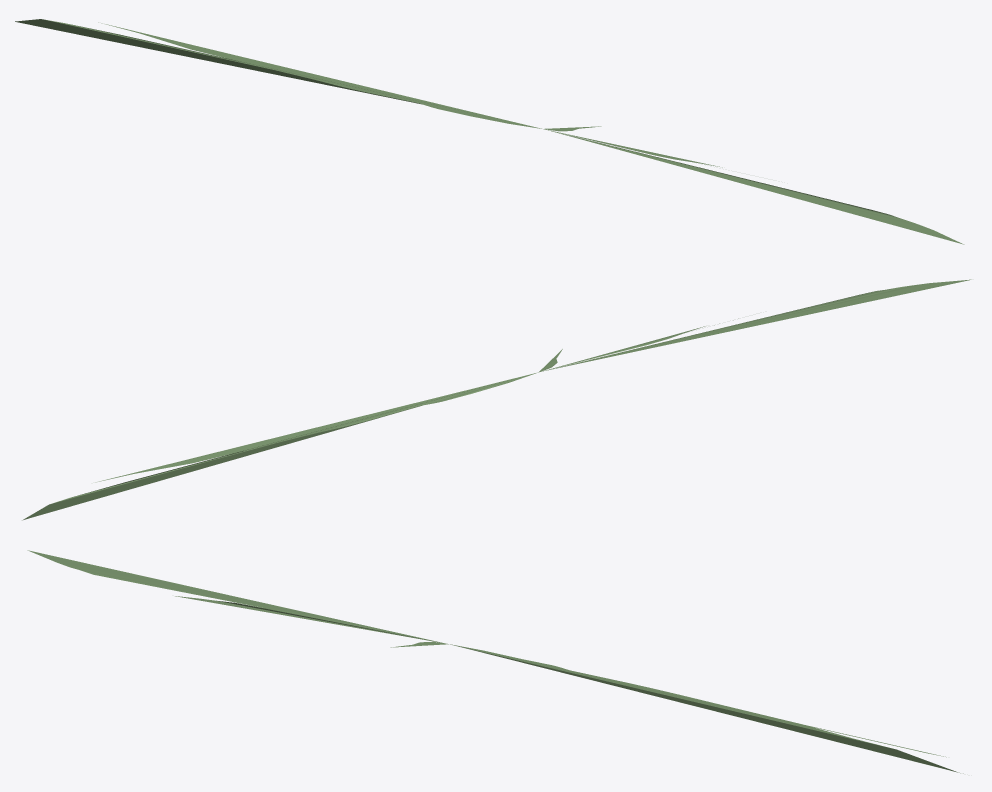
The model's file is c_1625_17824_parks.glb.
3 views of the same model, one above another, from view 1: azimuth 90°, elevation 25°; view 2: azimuth 150°, elevation 25°; view 3: azimuth 270°, elevation 25° (orthographic).
Visible parts, largest first — view 1: geometry_0; view 2: geometry_0; view 3: geometry_0.
Boxes of the visible parts, x1,y1,x2,y2 form: geometry_0: [15, 19, 964, 244]; geometry_0: [22, 279, 971, 520]; geometry_0: [27, 550, 963, 773].
Size of the model in its own units: 578 by 14.36 by 1034.
